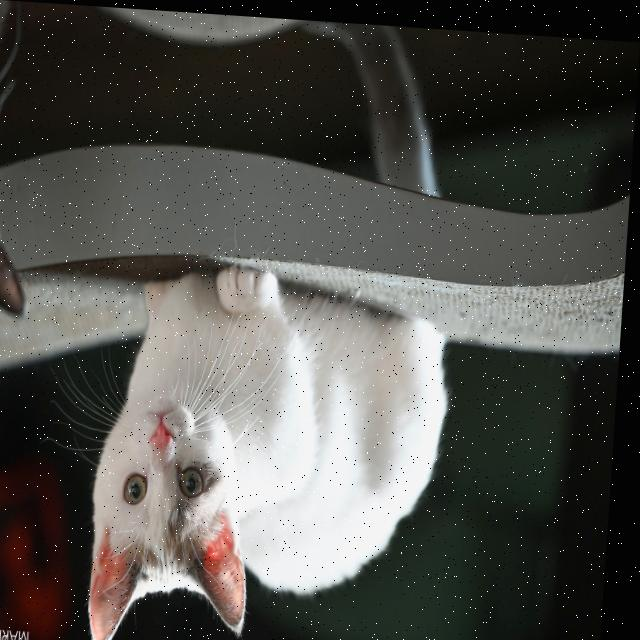Munchkin: (85, 248, 466, 640)
